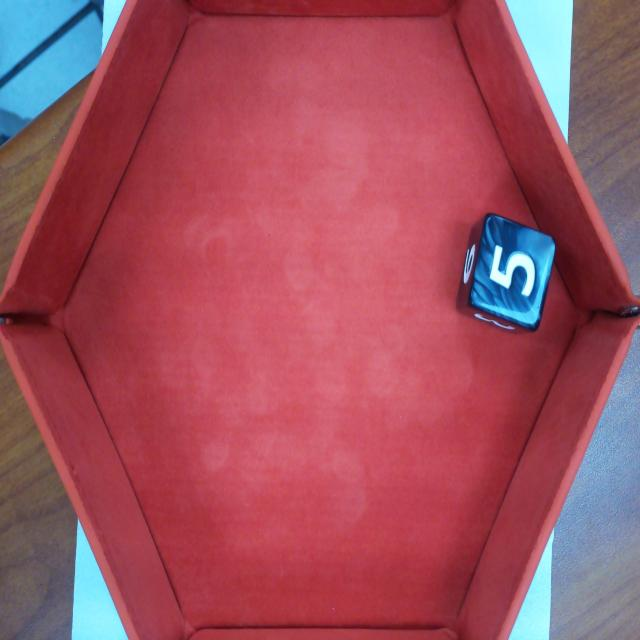dice: (468, 207, 561, 336)
